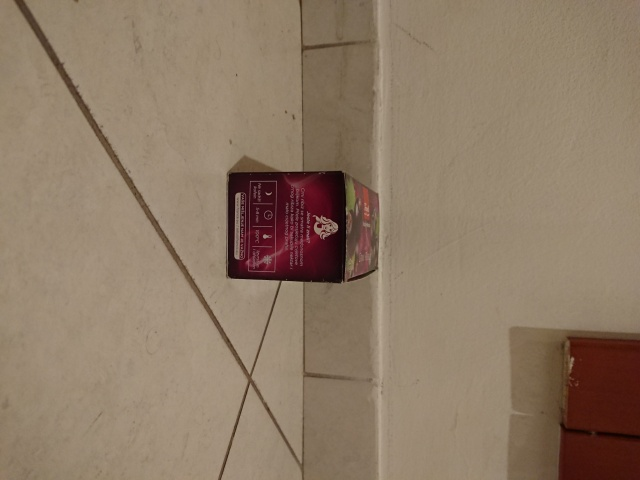Franck Black Currant Tea 60g: (223, 168, 383, 286)
